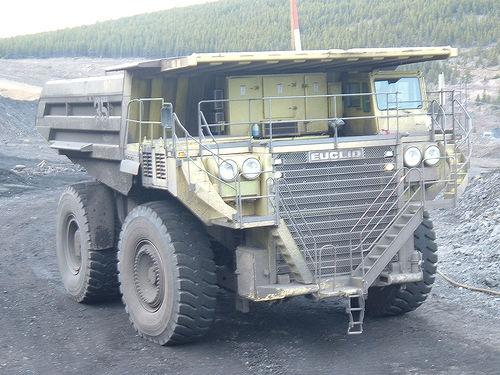truck: (34, 45, 473, 347)
